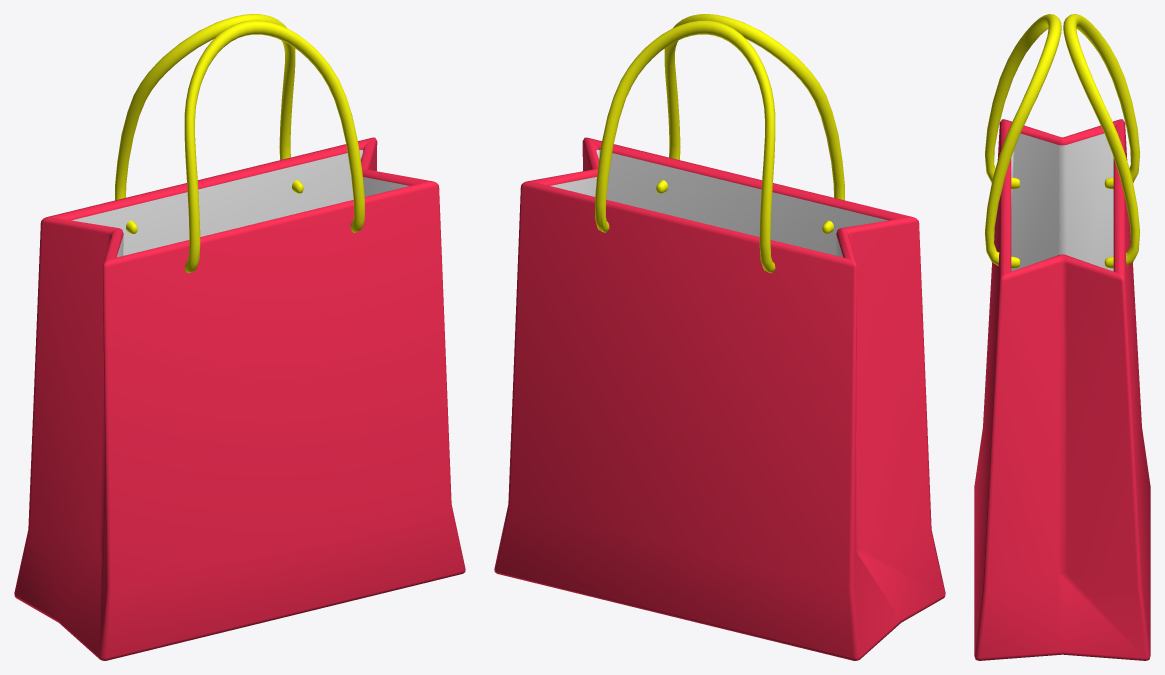
The model's file is Bag.fbx.
The picture shows the model from 3 angles, left to right: view 1: azimuth 30°, elevation 25°; view 2: azimuth 150°, elevation 25°; view 3: azimuth 270°, elevation 25°; orthographic projection. The views are drawn at different scales.
Visible parts, largest first — view 1: Bag; view 2: Bag; view 3: Bag.
Boxes of the visible parts, x1,y1,x2,y2 form: Bag: [14, 14, 465, 660]; Bag: [494, 14, 945, 660]; Bag: [974, 14, 1150, 660].
Size of the model in its own units: 1.88 by 0.8019 by 2.78.
